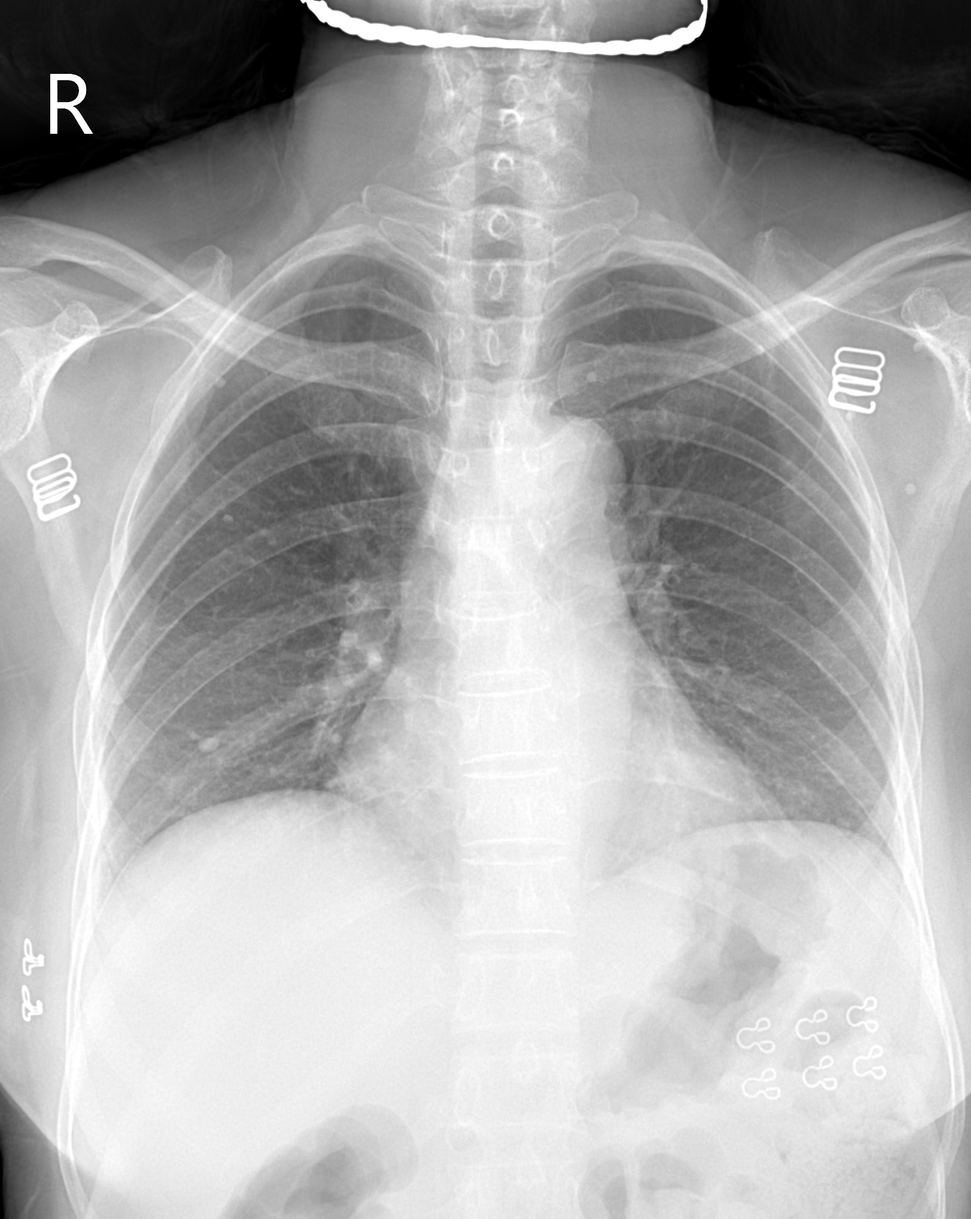Aortic enlargement: (506, 411, 626, 528)
Cardiomegaly: (330, 735, 768, 823)
